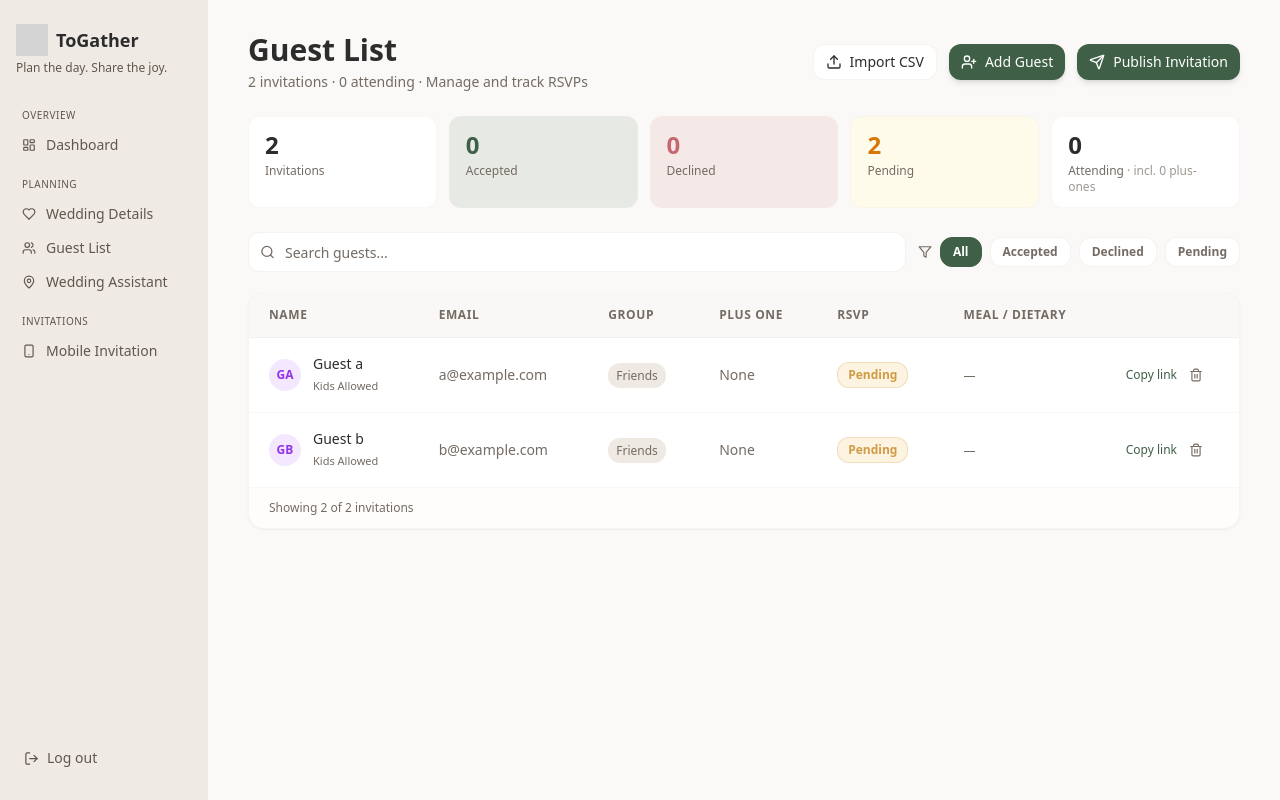
Test: Guest List — confirmation modal › uses singular wording for one eligible guest
Click the button "Publish Invitation" at coordinates (1159, 62), box [1077,44,1240,80]
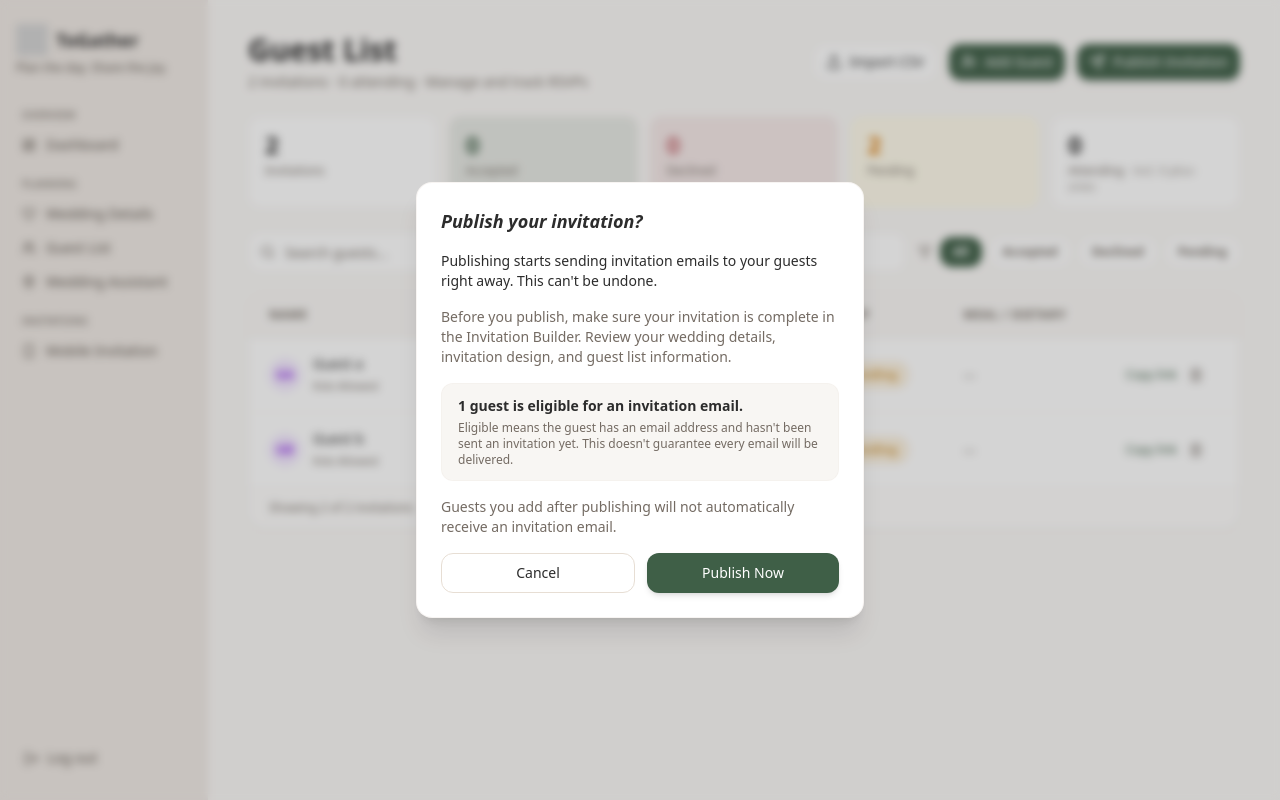
expect the dialog is shown: met, box [416,182,864,618]
expect the element with test id "publish-eligible" shows "1 guest is eligible for an invitation email": met, box [441,383,839,481]
